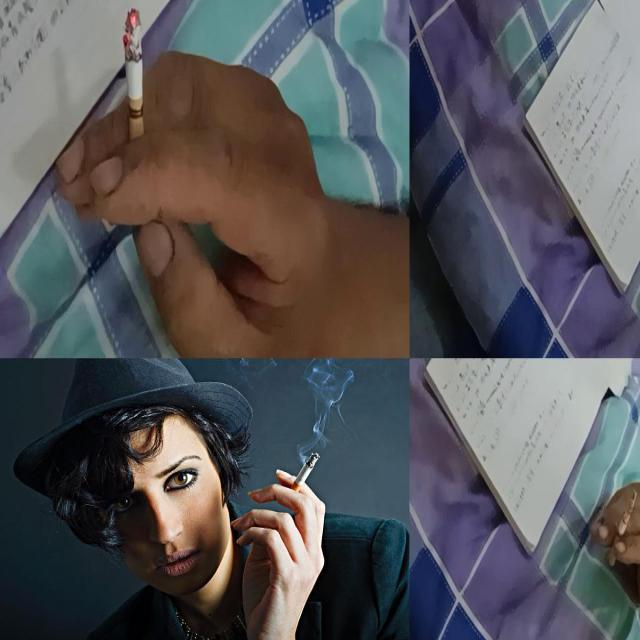smoking: (123, 7, 146, 156), (606, 490, 638, 568), (288, 448, 324, 499)
